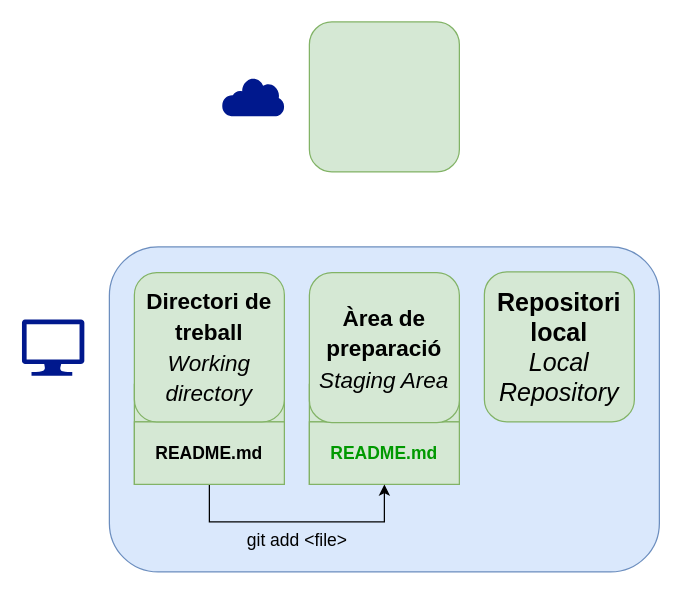
The diagram is 681 pixels wide and 594 high, and some of its shapes have lost their labels. Here are the shapes that lost their labels. From the top down, the box of each, then its label:
(308, 21, 459, 172): Repositori Remot Remote Repository
(108, 246, 659, 572): Local - Entorn de desenvolupament
